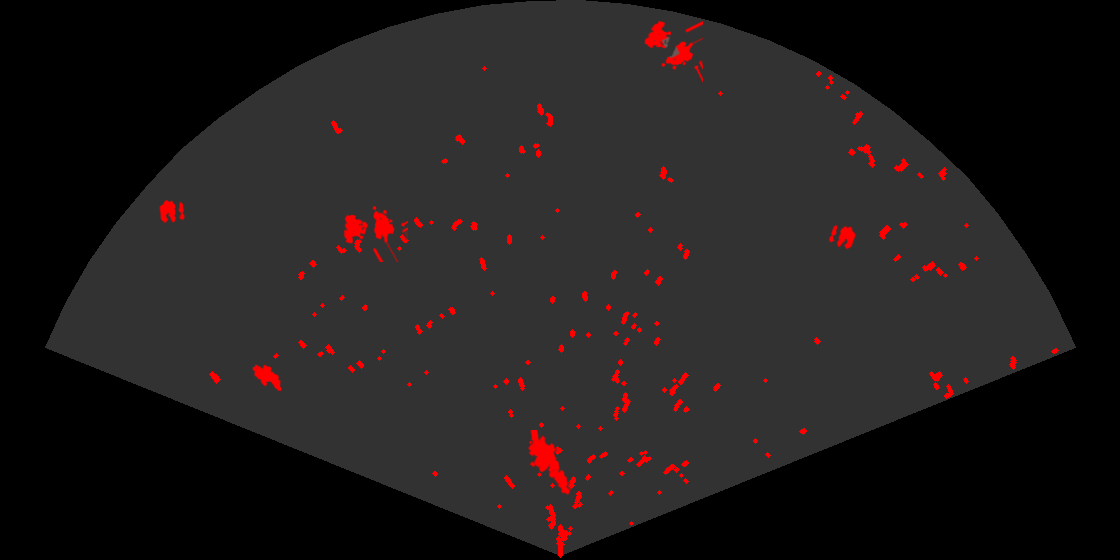AUV: (251, 363, 283, 393)
ball: (827, 223, 857, 251), (158, 199, 186, 225)
cage: (643, 19, 703, 84), (342, 204, 408, 262)
frogman: (526, 430, 572, 497)
